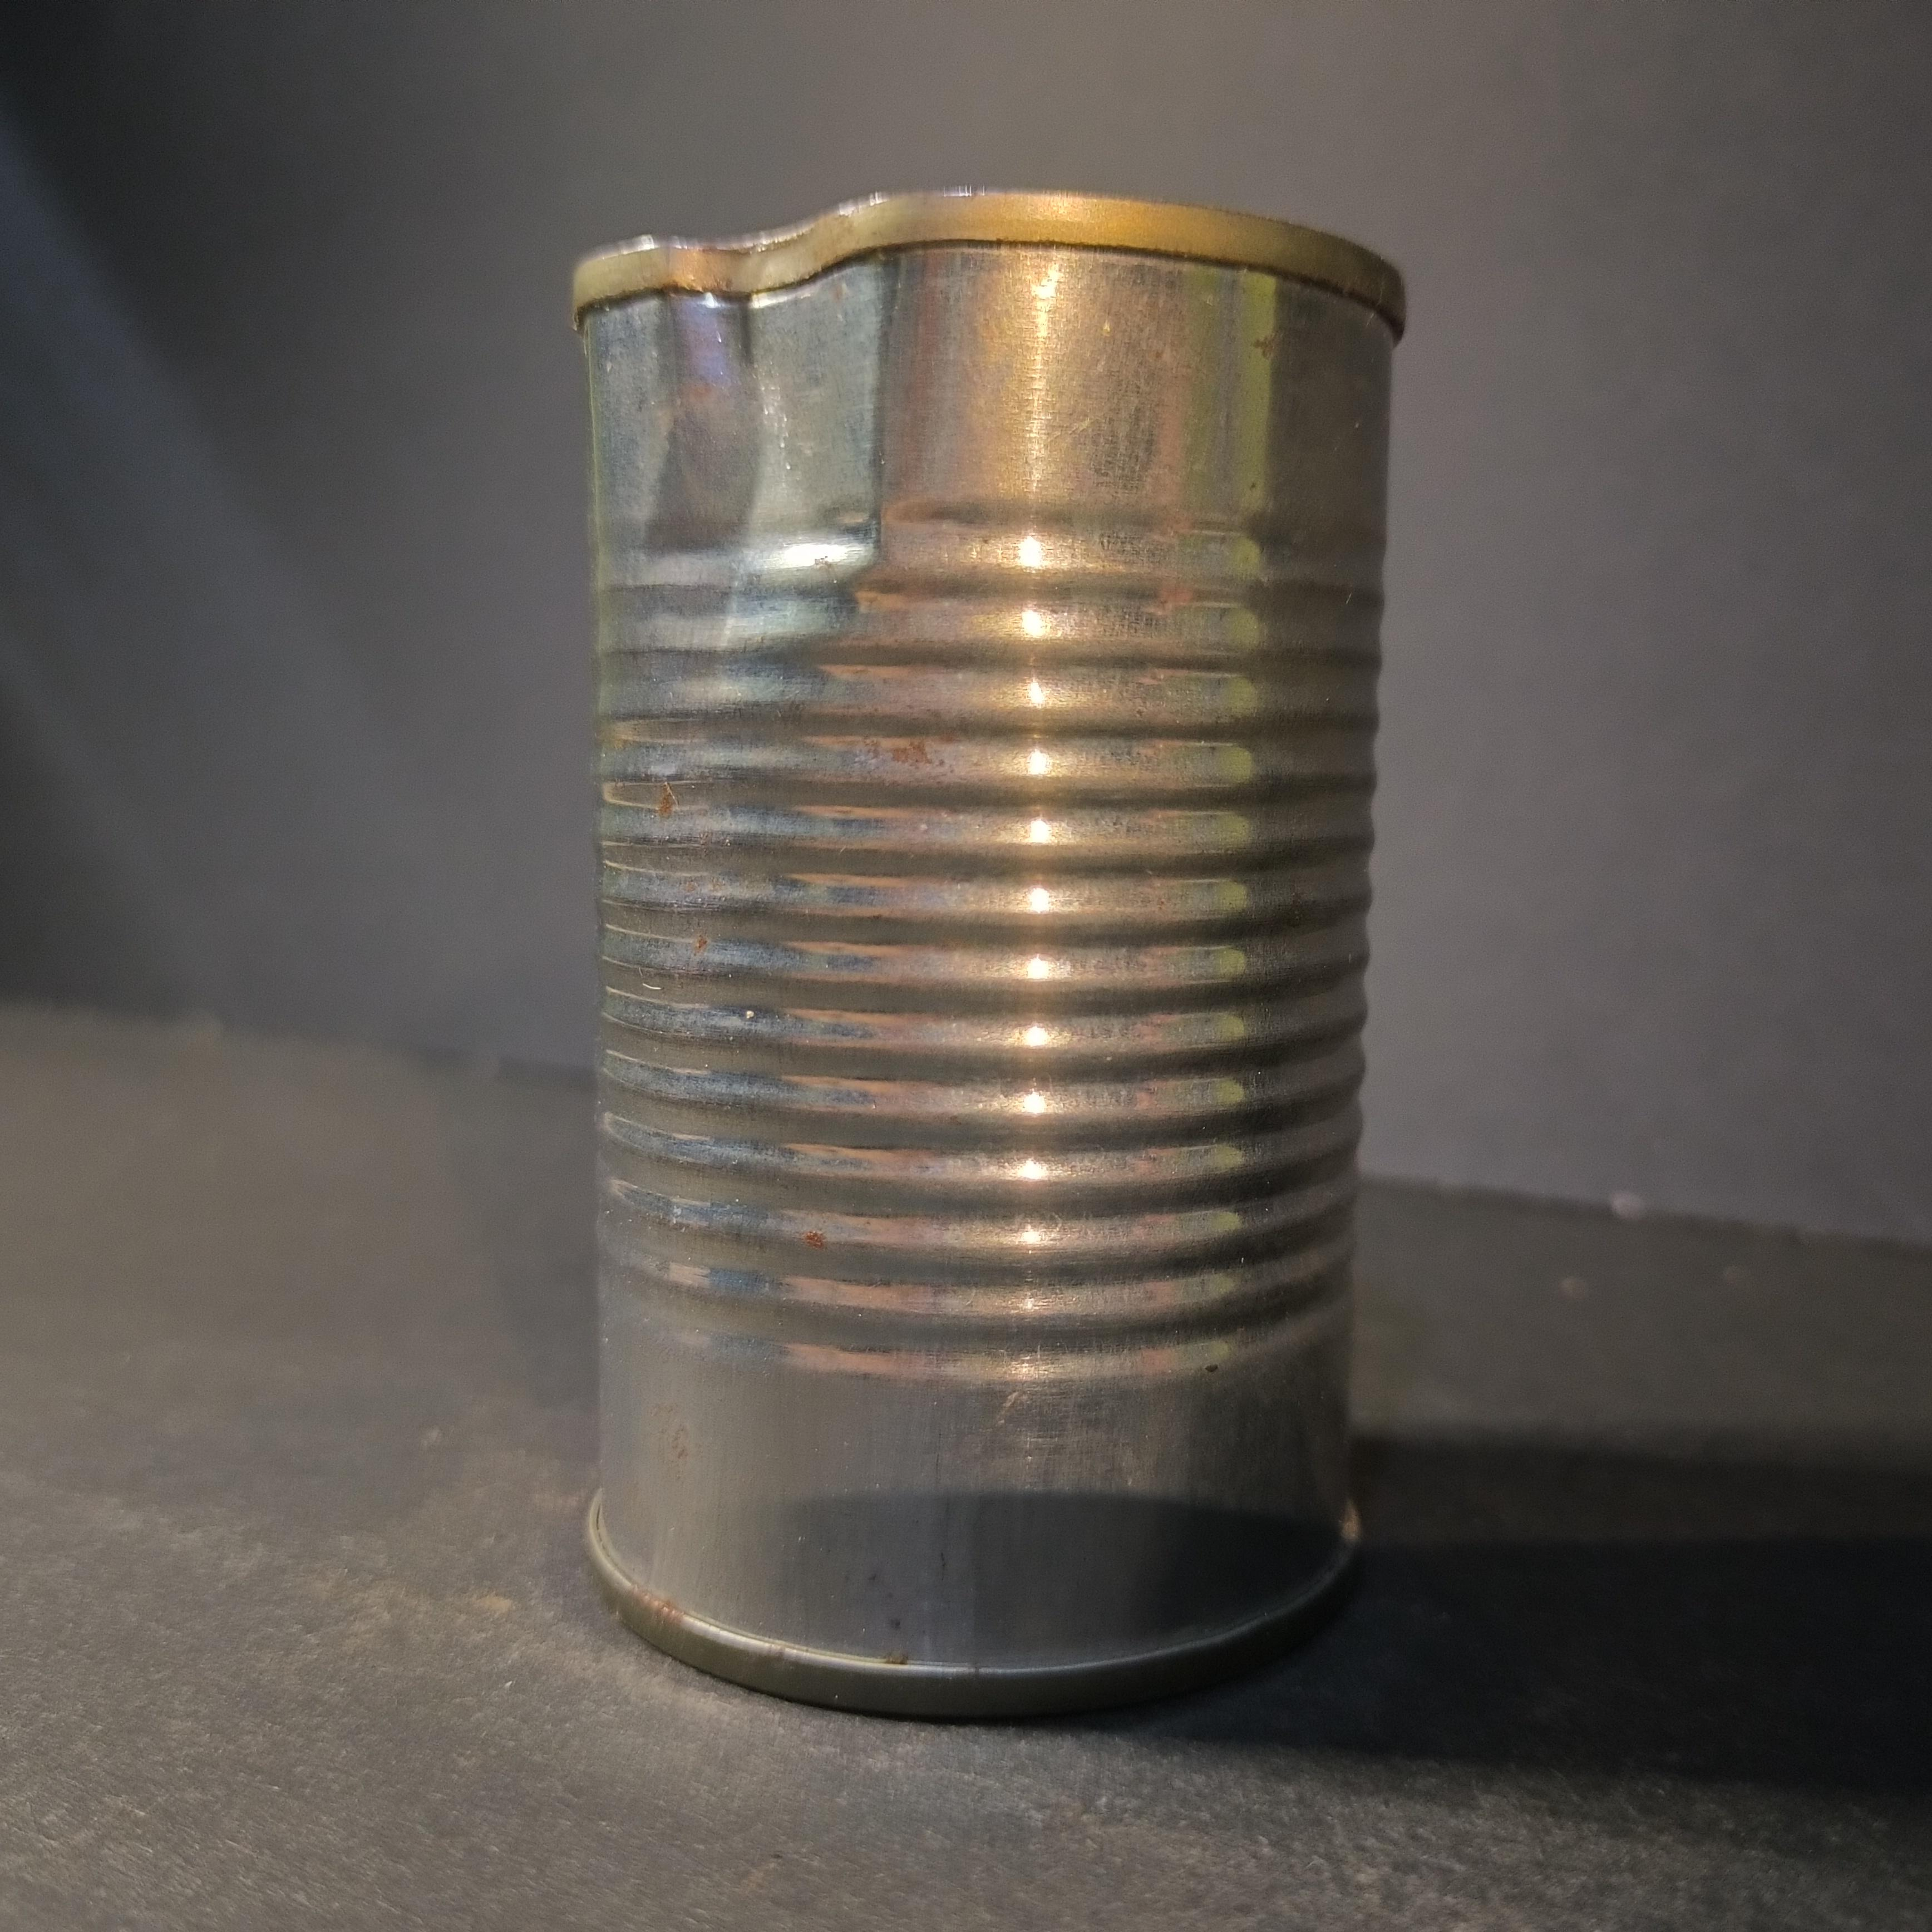Critical Defect: (566, 184, 1414, 1725)
